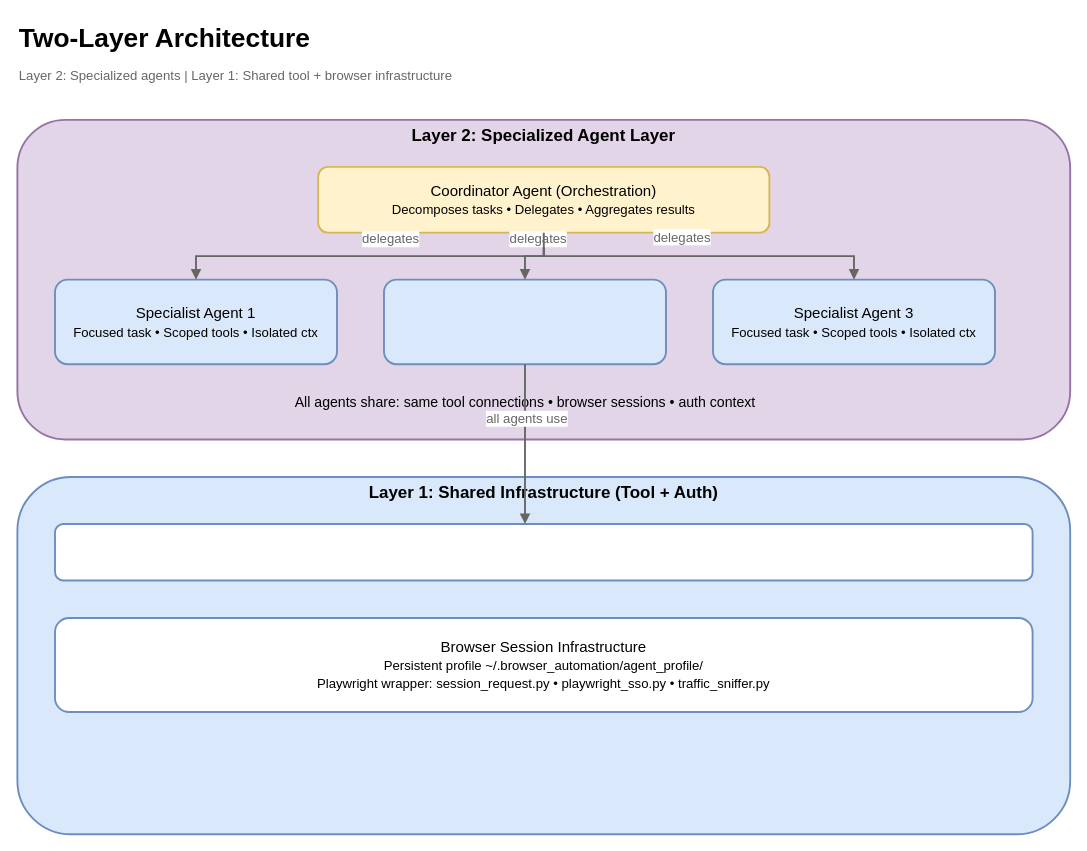
Image size: 1087x851. Some labels were removed from this diagram. Here are the shapes that lost their labels. From the top down, the centre of each, then its label:
At [524,321]: "Specialist Agent 2 Focused task • Scoped tools • Isolated ctx".
At [543,552]: "Tool Connection Layer Slack • Jira • GitHub • Grafana connectors".
